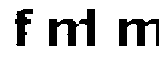f: (10, 7, 36, 53)
l: (86, 6, 105, 57)
m: (43, 16, 92, 50), (115, 15, 160, 51)
